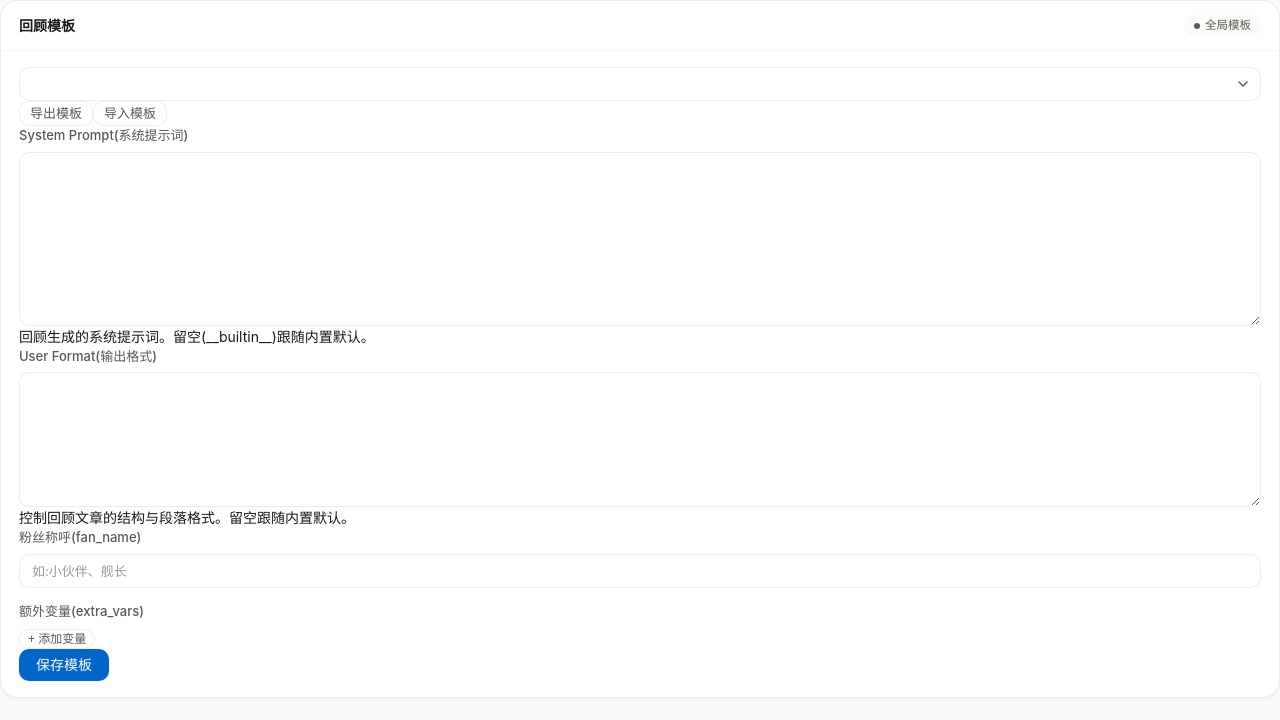
Test: TemplateCardV10 extra_vars 编辑 › 点击「添加变量」后新增一行空输入框且不消失
What coordinates should you click on to do the following:
click the button "+ 添加变量"
I would click on:
 (57, 639)
Its box is x1=19 y1=629 x2=95 y2=649.
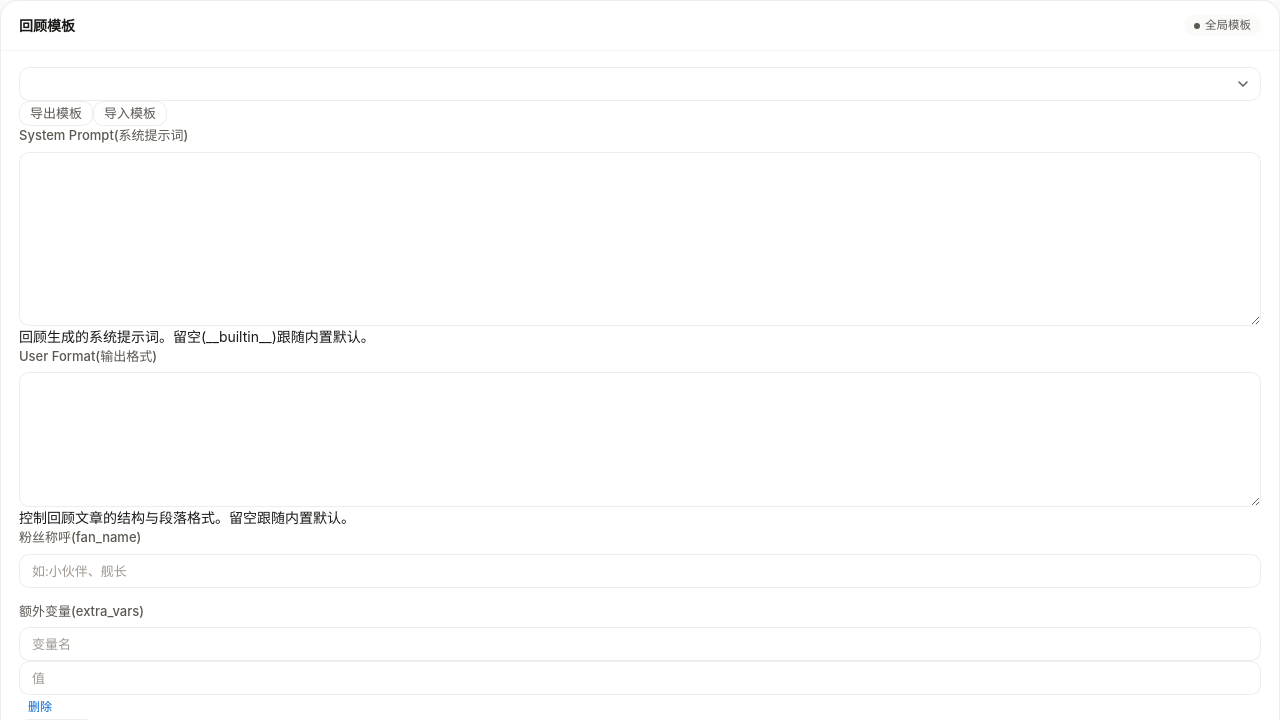
Expected: the number of elements with class "kv-row" is 1, x1=19 y1=627 x2=1261 y2=717
